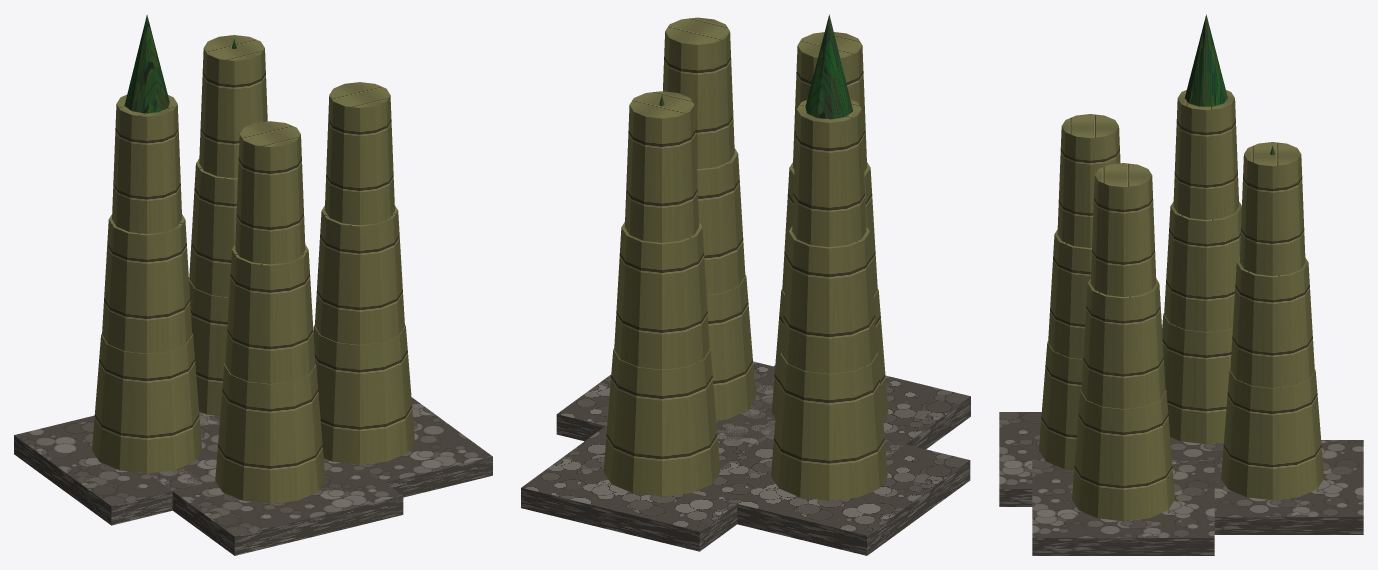
The model's file is rung-tre-mang-tre.glb.
3 views of the same model, side by side, from view 1: azimuth 30°, elevation 25°; view 2: azimuth 150°, elevation 25°; view 3: azimuth 270°, elevation 25° (orthographic). The views are drawn at different scales.
Visible parts, largest first — view 1: rung-tre-mang-tre; view 2: rung-tre-mang-tre; view 3: rung-tre-mang-tre.
Part boxes in pixels (x1,y1,x2,y2): rung-tre-mang-tre: (14, 14, 492, 555); rung-tre-mang-tre: (521, 14, 970, 555); rung-tre-mang-tre: (999, 14, 1363, 555).
Size of the model in its own units: 1.1 by 1.42 by 1.1.
3 materials, 3 textured.
